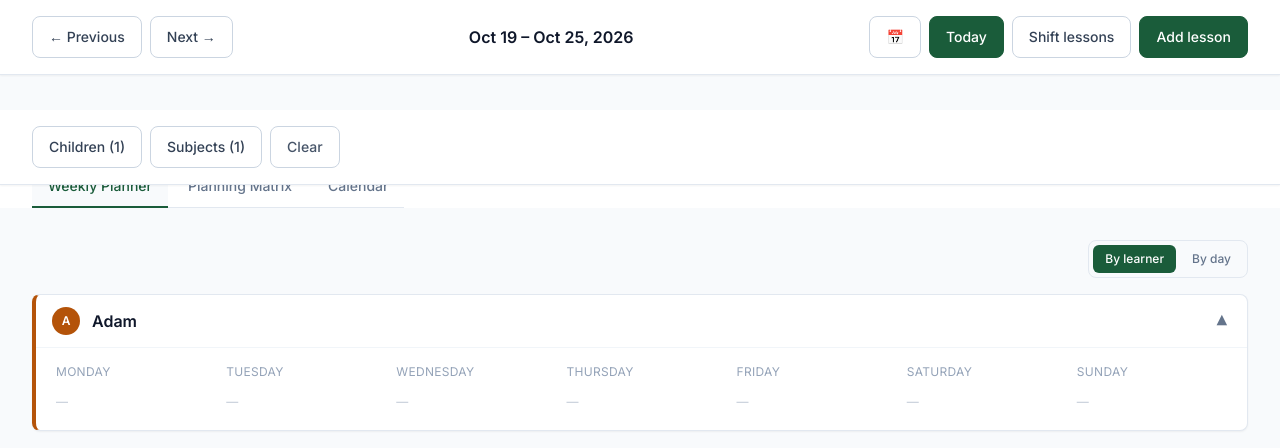
PlannerViewToggle › selecting Planning Matrix renders the existing WeekGrid
The width and height of the screenshot is (1280, 448).
Click the tab "Planning Matrix": x=240, y=187 [172,166,308,208]
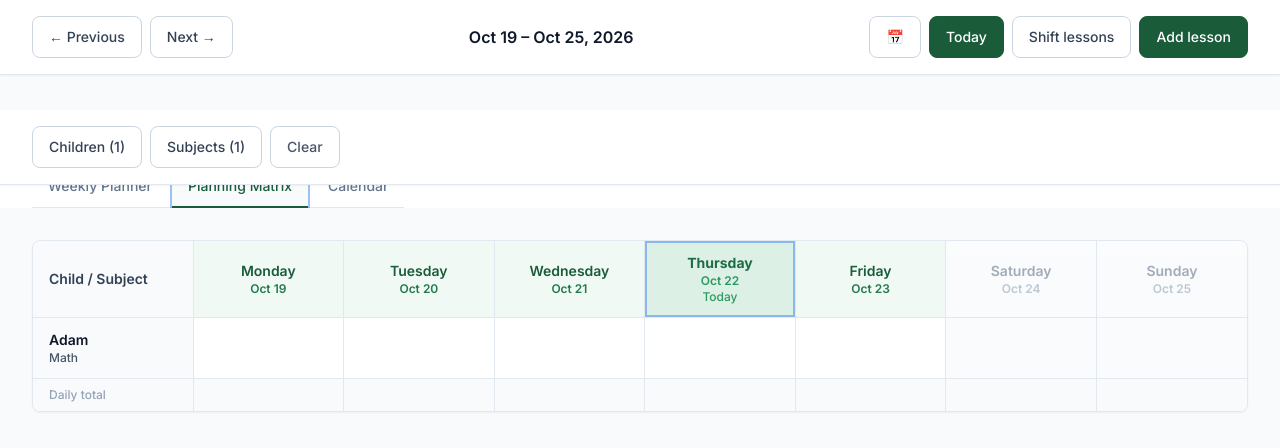
Check: the text "Child / Subject" is shown, box [49,270,148,287]
